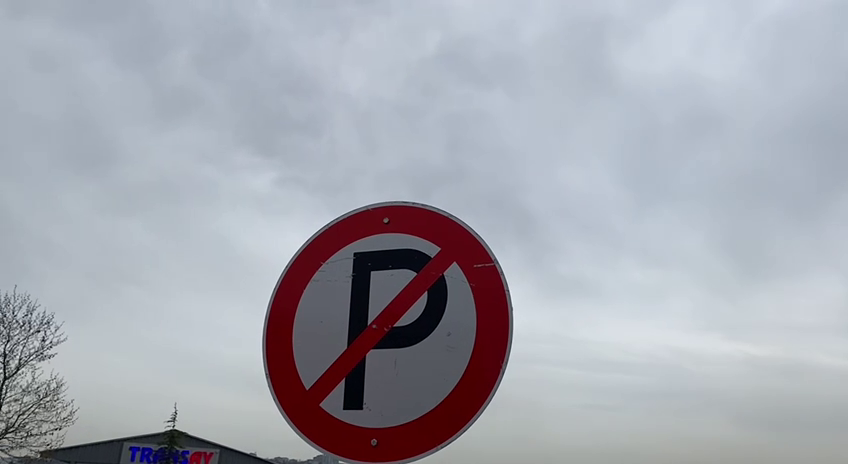noparking: (256, 195, 519, 460)
